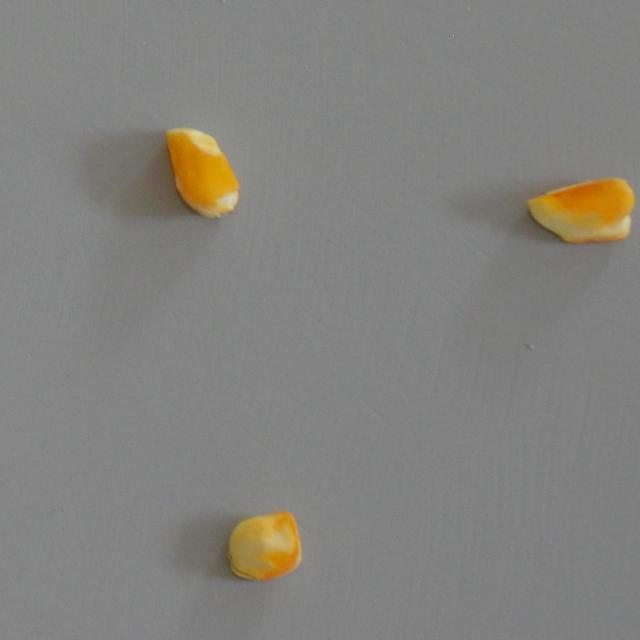estandar: (153, 128, 248, 221)
pelicula: (209, 488, 326, 604), (524, 145, 640, 261)
